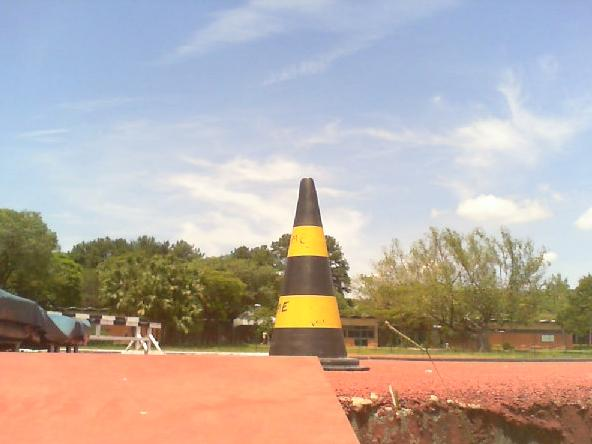0 cone: (269, 178, 369, 372)
